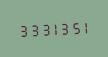five: (67, 19, 76, 35)
one: (77, 18, 86, 35), (47, 20, 56, 36)
three: (17, 21, 26, 38), (37, 20, 46, 37), (57, 19, 66, 36), (27, 21, 36, 37)
